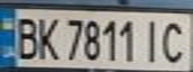1: (118, 16, 139, 63), (100, 16, 121, 62)
7: (60, 15, 84, 62)
8: (81, 16, 103, 62)
B: (9, 14, 42, 61)
C: (157, 17, 193, 64)
I: (139, 16, 166, 64)
K: (33, 14, 60, 61)
